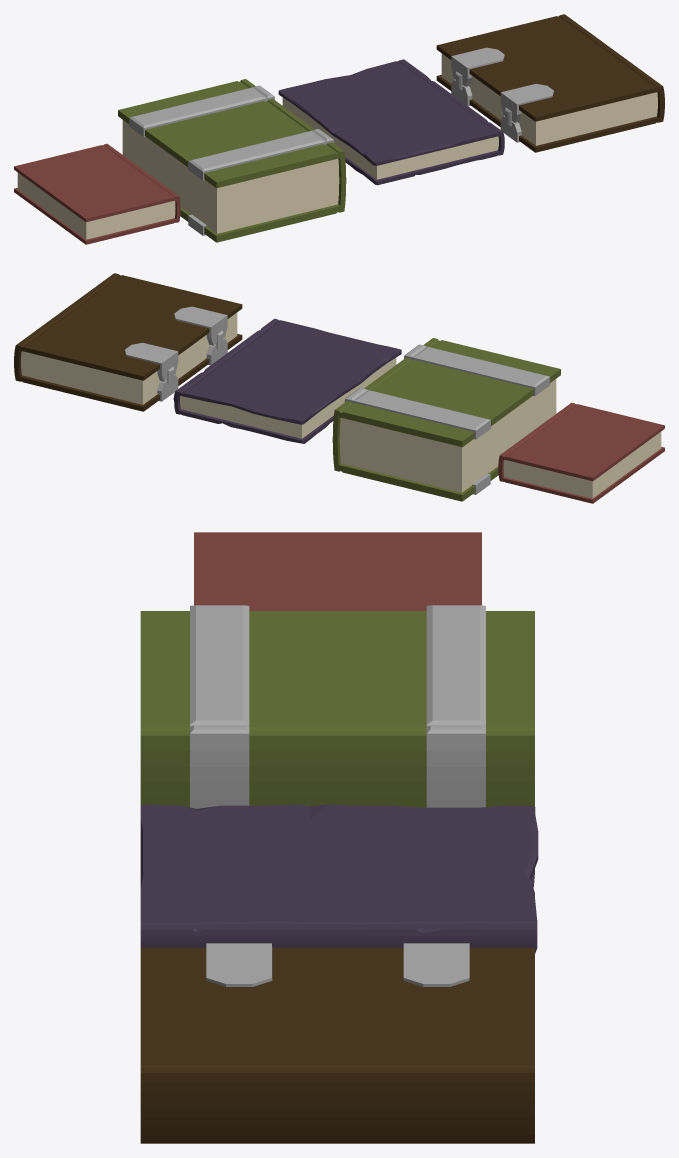
File: BPW_Books.fbx
3 renders of one model, top to bottom at view 1: azimuth 30°, elevation 25°; view 2: azimuth 150°, elevation 25°; view 3: azimuth 270°, elevation 25°, orthographic. The views are drawn at different scales.
Parts seen in each view (by area): view 1: Cube.001, Cube.005, Cube.003, Cube.004, Cube.007, Cube, Cube.006, Cube.002; view 2: Cube.001, Cube.005, Cube.003, Cube.004, Cube.007, Cube, Cube.006, Cube.002; view 3: Cube.001, Cube.005, Cube.003, Cube.007.
Part boxes in pixels (left/top/right/bottom): Cube.001: left=436, top=14, right=664, bottom=152; Cube.005: left=118, top=79, right=346, bottom=242; Cube.003: left=278, top=59, right=504, bottom=185; Cube.004: left=122, top=120, right=339, bottom=233; Cube.007: left=14, top=143, right=180, bottom=244; Cube: left=441, top=53, right=657, bottom=145; Cube.006: left=17, top=172, right=175, bottom=239; Cube.002: left=282, top=97, right=498, bottom=179; Cube.001: left=14, top=273, right=242, bottom=411; Cube.005: left=332, top=338, right=560, bottom=501; Cube.003: left=173, top=318, right=401, bottom=443; Cube.004: left=339, top=379, right=556, bottom=492; Cube.007: left=498, top=402, right=664, bottom=503; Cube: left=21, top=312, right=237, bottom=404; Cube.006: left=503, top=431, right=661, bottom=498; Cube.002: left=180, top=358, right=396, bottom=438; Cube.001: left=140, top=943, right=534, bottom=1143; Cube.005: left=140, top=605, right=534, bottom=808; Cube.003: left=140, top=804, right=538, bottom=953; Cube.007: left=194, top=532, right=481, bottom=610.
Bounding box in the file's own units: 924 × 102 × 281.
